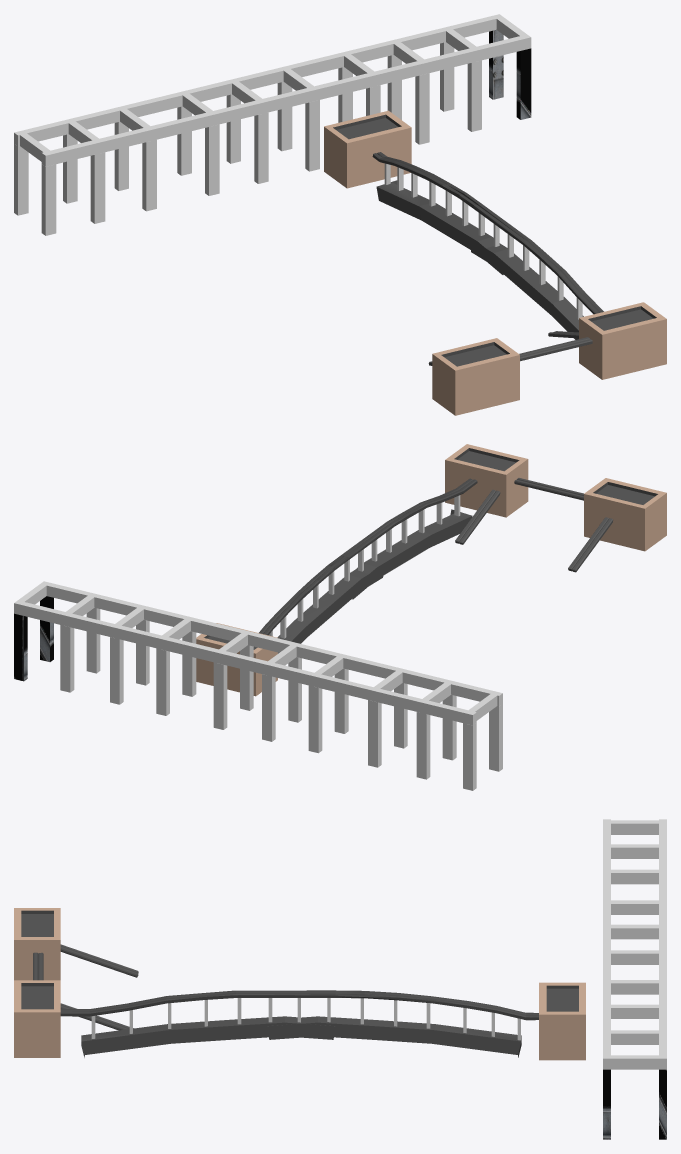
Rendered from Electronic_Control.glb.
3 renders of one model, top to bottom at view 1: azimuth 30°, elevation 25°; view 2: azimuth 150°, elevation 25°; view 3: azimuth 270°, elevation 25°, orthographic. The views are drawn at different scales.
Parts seen in each view (by area): view 1: Cube.017, Cube.048_85, Cube.049_86, Cube.051_87, Cube.047_84, Cube.070_103, Cube.013, Cube.053_88; view 2: Cube.017, Cube.048_85, Cube.051_87, Cube.049_86, Cube.070_103, Cube.013, Cube.047_84, Cube.110_201, Cube.109_200, Cube.053_88; view 3: Cube.017, Cube.051_87, Cube.070_103, Cube.047_84, Cube.049_86, Cube.048_85, Cube.013, Cube.109_200.
Part boxes in pixels (x1=…): Cube.017: x1=14, y1=14, x2=531, y2=235; Cube.048_85: x1=432, y1=338, x2=519, y2=415; Cube.049_86: x1=579, y1=302, x2=666, y2=379; Cube.051_87: x1=376, y1=180, x2=583, y2=339; Cube.047_84: x1=324, y1=110, x2=411, y2=188; Cube.070_103: x1=372, y1=152, x2=603, y2=314; Cube.013: x1=384, y1=163, x2=582, y2=319; Cube.053_88: x1=519, y1=337, x2=592, y2=361; Cube.017: x1=14, y1=581, x2=502, y2=790; Cube.048_85: x1=584, y1=478, x2=666, y2=551; Cube.051_87: x1=277, y1=509, x2=472, y2=653; Cube.049_86: x1=445, y1=444, x2=528, y2=517; Cube.070_103: x1=259, y1=478, x2=477, y2=635; Cube.013: x1=268, y1=495, x2=460, y2=638; Cube.047_84: x1=196, y1=623, x2=277, y2=696; Cube.110_201: x1=455, y1=489, x2=500, y2=544; Cube.109_200: x1=568, y1=517, x2=613, y2=572; Cube.053_88: x1=514, y1=478, x2=583, y2=500; Cube.017: x1=603, y1=819, x2=666, y2=1139; Cube.051_87: x1=81, y1=1016, x2=521, y2=1057; Cube.070_103: x1=60, y1=990, x2=538, y2=1020; Cube.047_84: x1=539, y1=982, x2=585, y2=1060; Cube.049_86: x1=14, y1=980, x2=60, y2=1057; Cube.048_85: x1=14, y1=908, x2=60, y2=980; Cube.013: x1=91, y1=998, x2=520, y2=1040; Cube.109_200: x1=60, y1=944, x2=138, y2=977.
Size of the model in its own units: 15.11 by 2.54 by 17.43.
4 materials, 1 textured.
